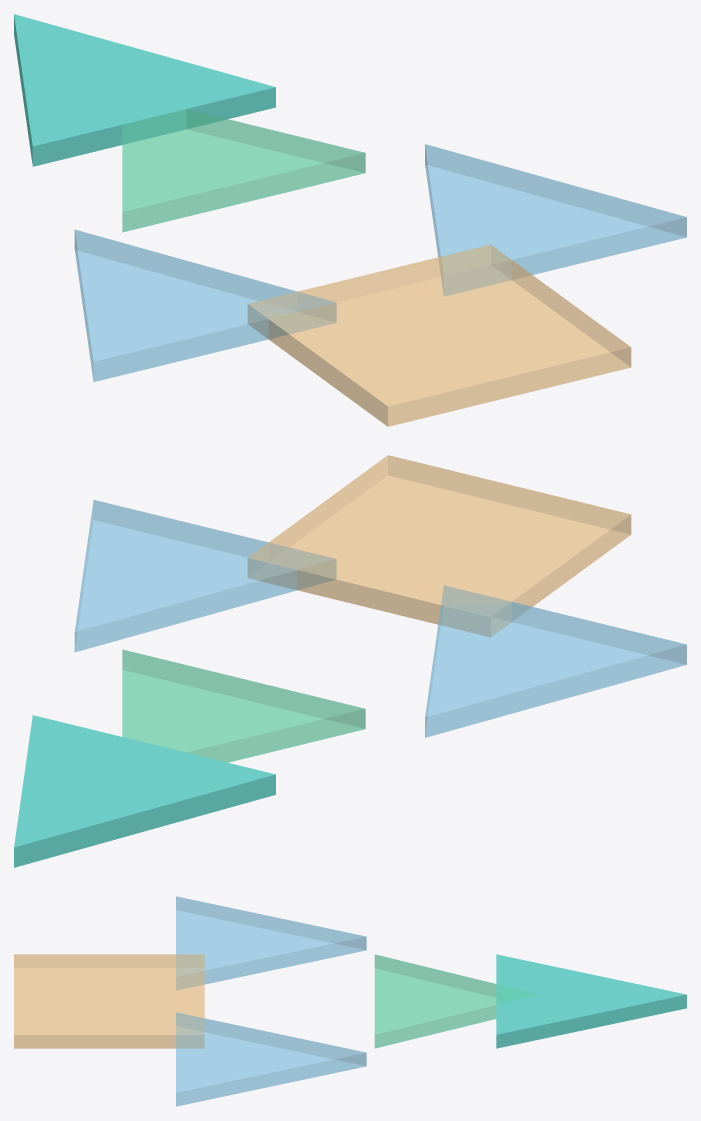
Rendered from albero_step5.glb.
3 views of the same model, one above another, from view 1: azimuth 30°, elevation 25°; view 2: azimuth 150°, elevation 25°; view 3: azimuth 270°, elevation 25° (orthographic). The views are drawn at different scales.
Parts seen in each view (by area): view 1: quadrato_piccolo, triangolo_isoscele_grande, triangolo_isoscele_piccolo, triangolo_isoscele_grande.001, triangolo_equilatero; view 2: quadrato_piccolo, triangolo_isoscele_piccolo, triangolo_isoscele_grande.001, triangolo_isoscele_grande, triangolo_equilatero; view 3: quadrato_piccolo, triangolo_isoscele_piccolo, triangolo_isoscele_grande.001, triangolo_isoscele_grande, triangolo_equilatero.
Boxes of the visible parts, left/top/right/bottom form: quadrato_piccolo: left=248, top=244, right=631, bottom=426; triangolo_isoscele_grande: left=74, top=229, right=336, bottom=381; triangolo_isoscele_piccolo: left=14, top=14, right=275, bottom=166; triangolo_isoscele_grande.001: left=425, top=144, right=686, bottom=296; triangolo_equilatero: left=122, top=109, right=365, bottom=232; quadrato_piccolo: left=248, top=455, right=631, bottom=637; triangolo_isoscele_piccolo: left=14, top=715, right=275, bottom=867; triangolo_isoscele_grande.001: left=74, top=500, right=336, bottom=652; triangolo_isoscele_grande: left=425, top=585, right=686, bottom=737; triangolo_equilatero: left=122, top=649, right=365, bottom=762; quadrato_piccolo: left=14, top=954, right=204, bottom=1048; triangolo_isoscele_piccolo: left=496, top=954, right=686, bottom=1048; triangolo_isoscele_grande.001: left=176, top=1012, right=366, bottom=1106; triangolo_isoscele_grande: left=176, top=896, right=366, bottom=990; triangolo_equilatero: left=374, top=954, right=538, bottom=1048.
Bounding box in the file's own units: 2.44 × 0.08 × 3.53.
